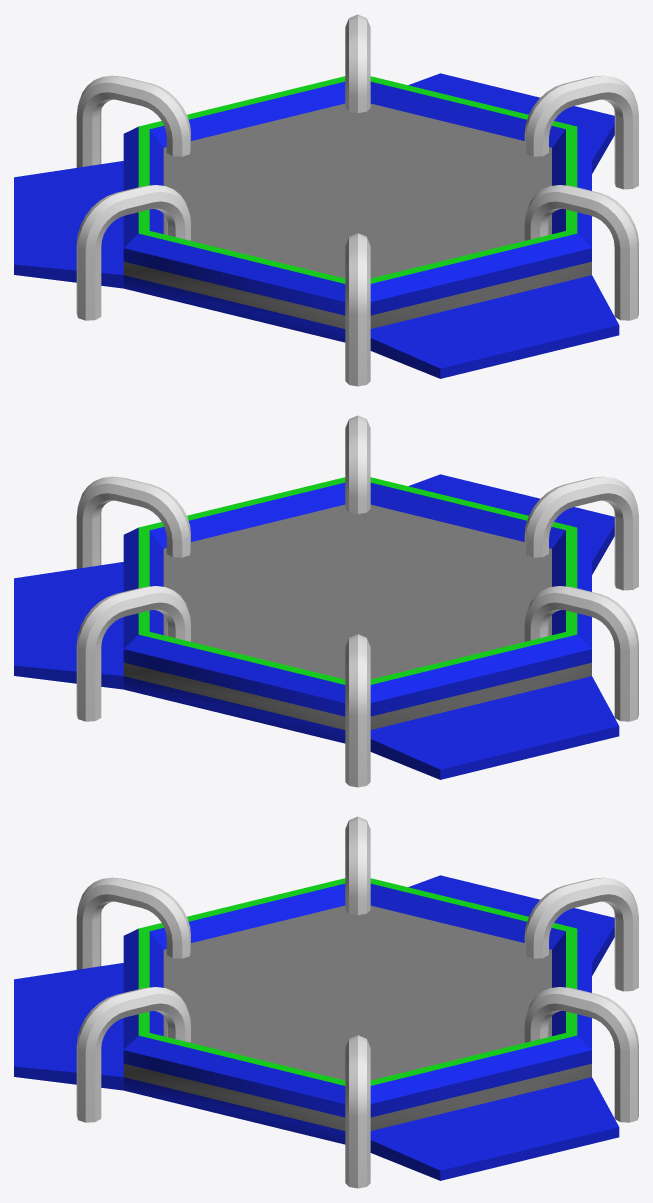
File: puzzle_platform.fbx
3 views of the same model, one above another, from view 1: azimuth 30°, elevation 25°; view 2: azimuth 150°, elevation 25°; view 3: azimuth 270°, elevation 25° (orthographic).
Visible parts, largest first — view 1: Cylinder011, Line020, Line023, Line021, Line024, Line022, Line025; view 2: Cylinder011, Line022, Line025, Line023, Line020, Line024, Line021; view 3: Cylinder011, Line024, Line021, Line025, Line022, Line020, Line023.
Part boxes in pixels (x1,y1,x2,y2): Cylinder011: (14, 73, 619, 378); Line020: (524, 75, 638, 189); Line023: (76, 185, 190, 320); Line021: (524, 185, 638, 320); Line024: (76, 75, 190, 167); Line022: (345, 233, 370, 386); Line025: (345, 14, 370, 113); Cylinder011: (14, 474, 619, 779); Line022: (524, 476, 638, 590); Line025: (76, 586, 190, 721); Line023: (524, 586, 638, 721); Line020: (76, 476, 190, 568); Line024: (345, 634, 370, 787); Line021: (345, 415, 370, 514); Cylinder011: (14, 875, 619, 1180); Line024: (524, 877, 638, 991); Line021: (76, 987, 190, 1122); Line025: (524, 987, 638, 1122); Line022: (76, 877, 190, 969); Line020: (345, 1035, 370, 1188); Line023: (345, 816, 370, 915).
Bounding box in the file's own units: 27.66 × 5.03 × 24.73.
